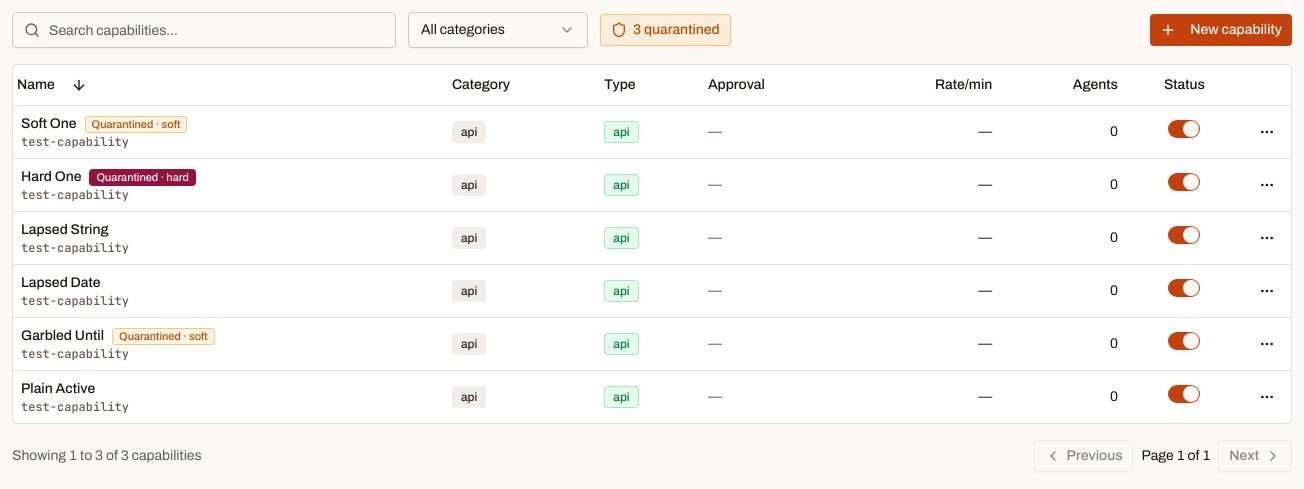
Test: CapabilitiesTable › quarantine badges and filter › filters to the quarantined rows and back
Click the button "3 quarantined" at x=665, y=30, box [600, 14, 731, 46]
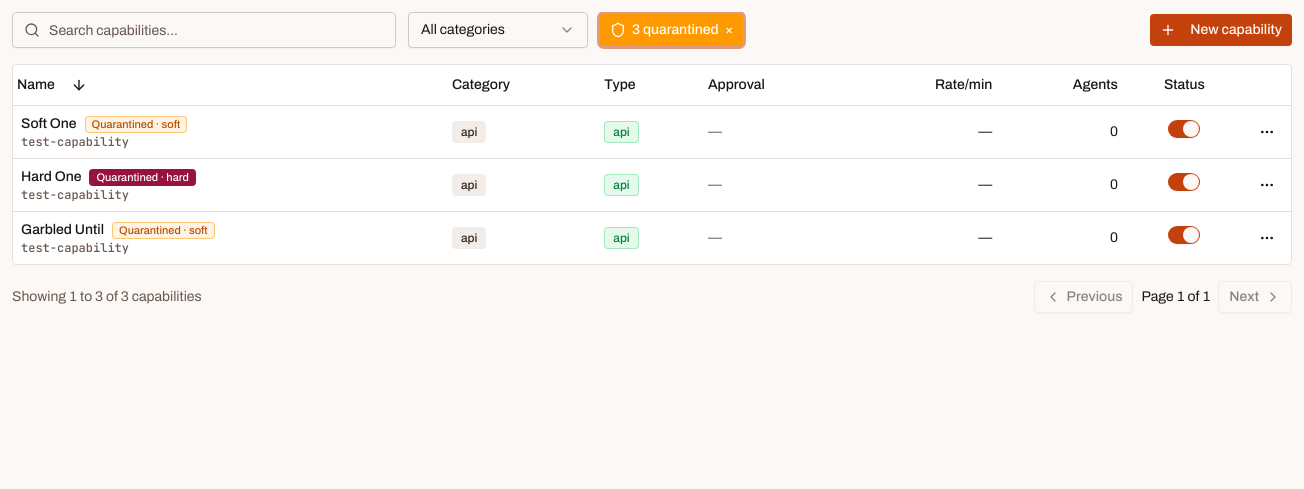
Expected: the link "Soft One" is shown, [21, 114, 77, 134]
Expected: the link "Lapsed String" is gone
Expected: the link "Plain Active" is gone
Click the button "3 quarantined ×" at x=672, y=30, box [600, 14, 744, 46]
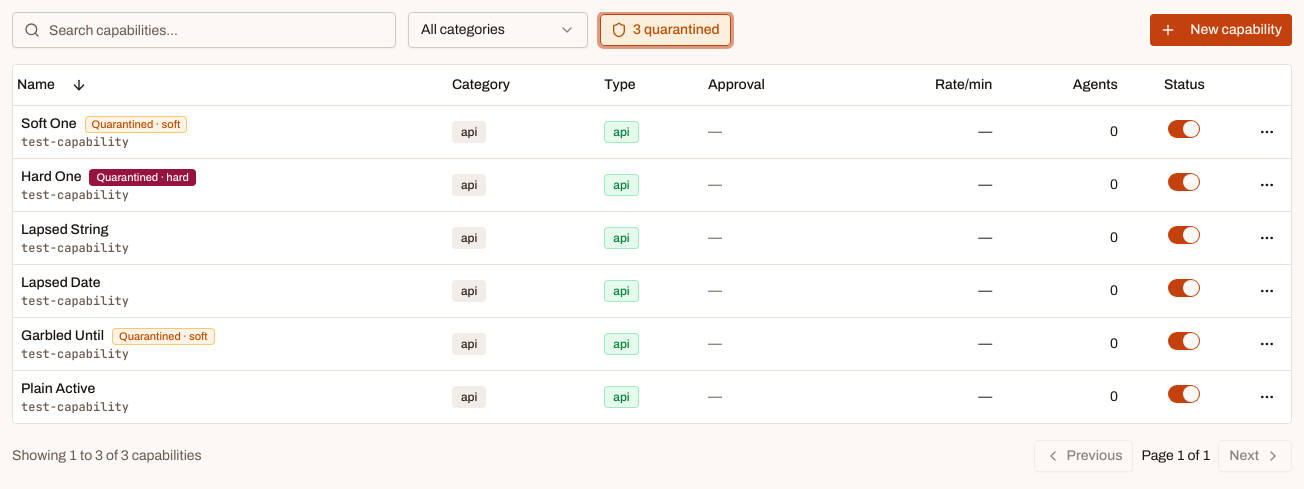
Expected: the link "Plain Active" is shown, [21, 378, 95, 398]
